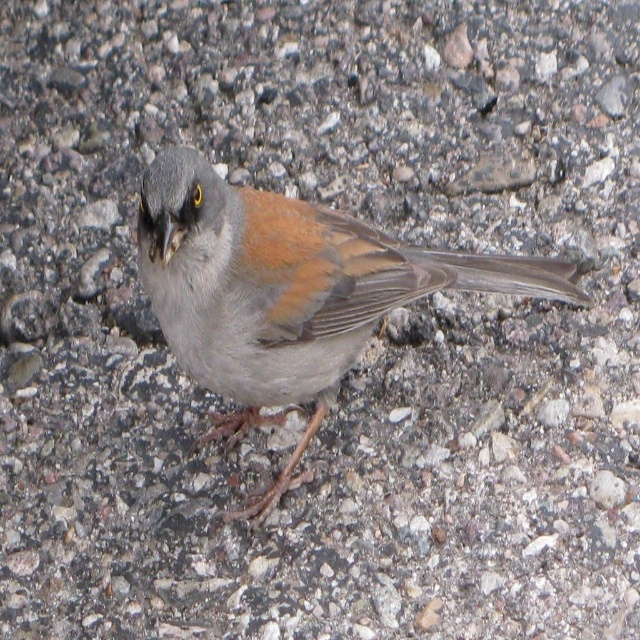Sparrow: (137, 147, 595, 538)
